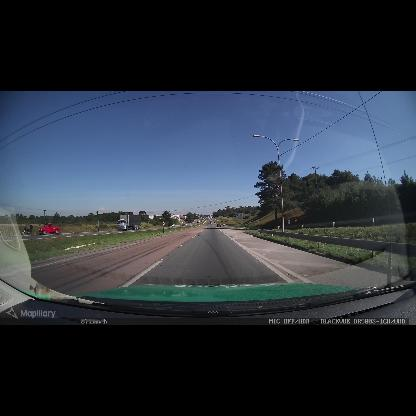R-2: (294, 219, 298, 224)
R-24a: (287, 219, 291, 224), (162, 221, 165, 226)
